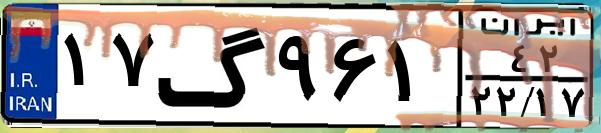1: (385, 28, 445, 110), (57, 26, 110, 100), (535, 70, 560, 125)
2: (537, 27, 568, 80), (470, 70, 495, 125), (495, 70, 520, 125)
4: (508, 27, 537, 80)
6: (330, 28, 385, 110)
7: (110, 28, 156, 98), (560, 70, 590, 125)
9: (270, 28, 330, 110)
گ: (156, 12, 270, 120)
